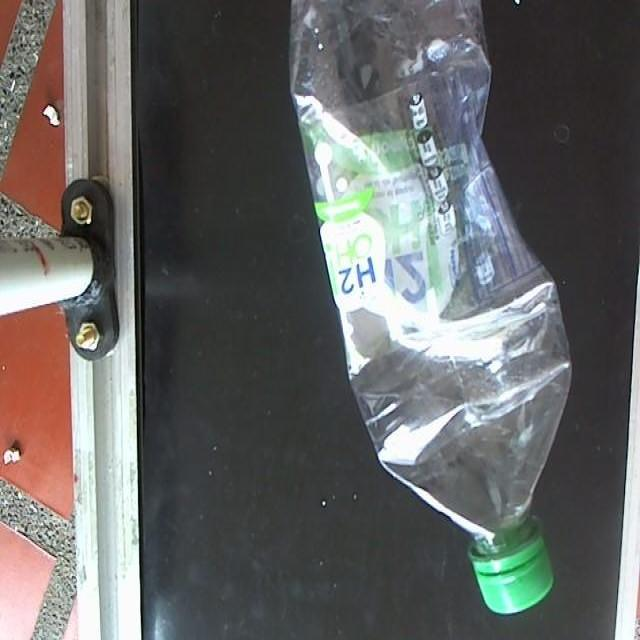defect: (283, 0, 576, 619)
